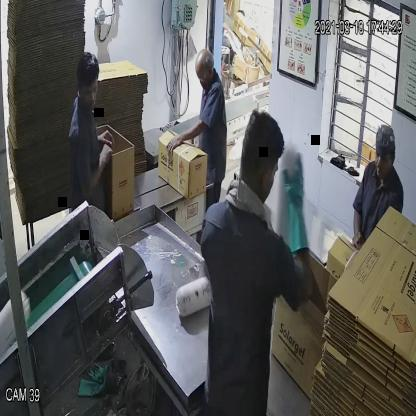glove: (278, 159, 312, 267)
no_glove: (76, 146, 118, 203), (158, 113, 207, 158), (338, 196, 364, 242)
